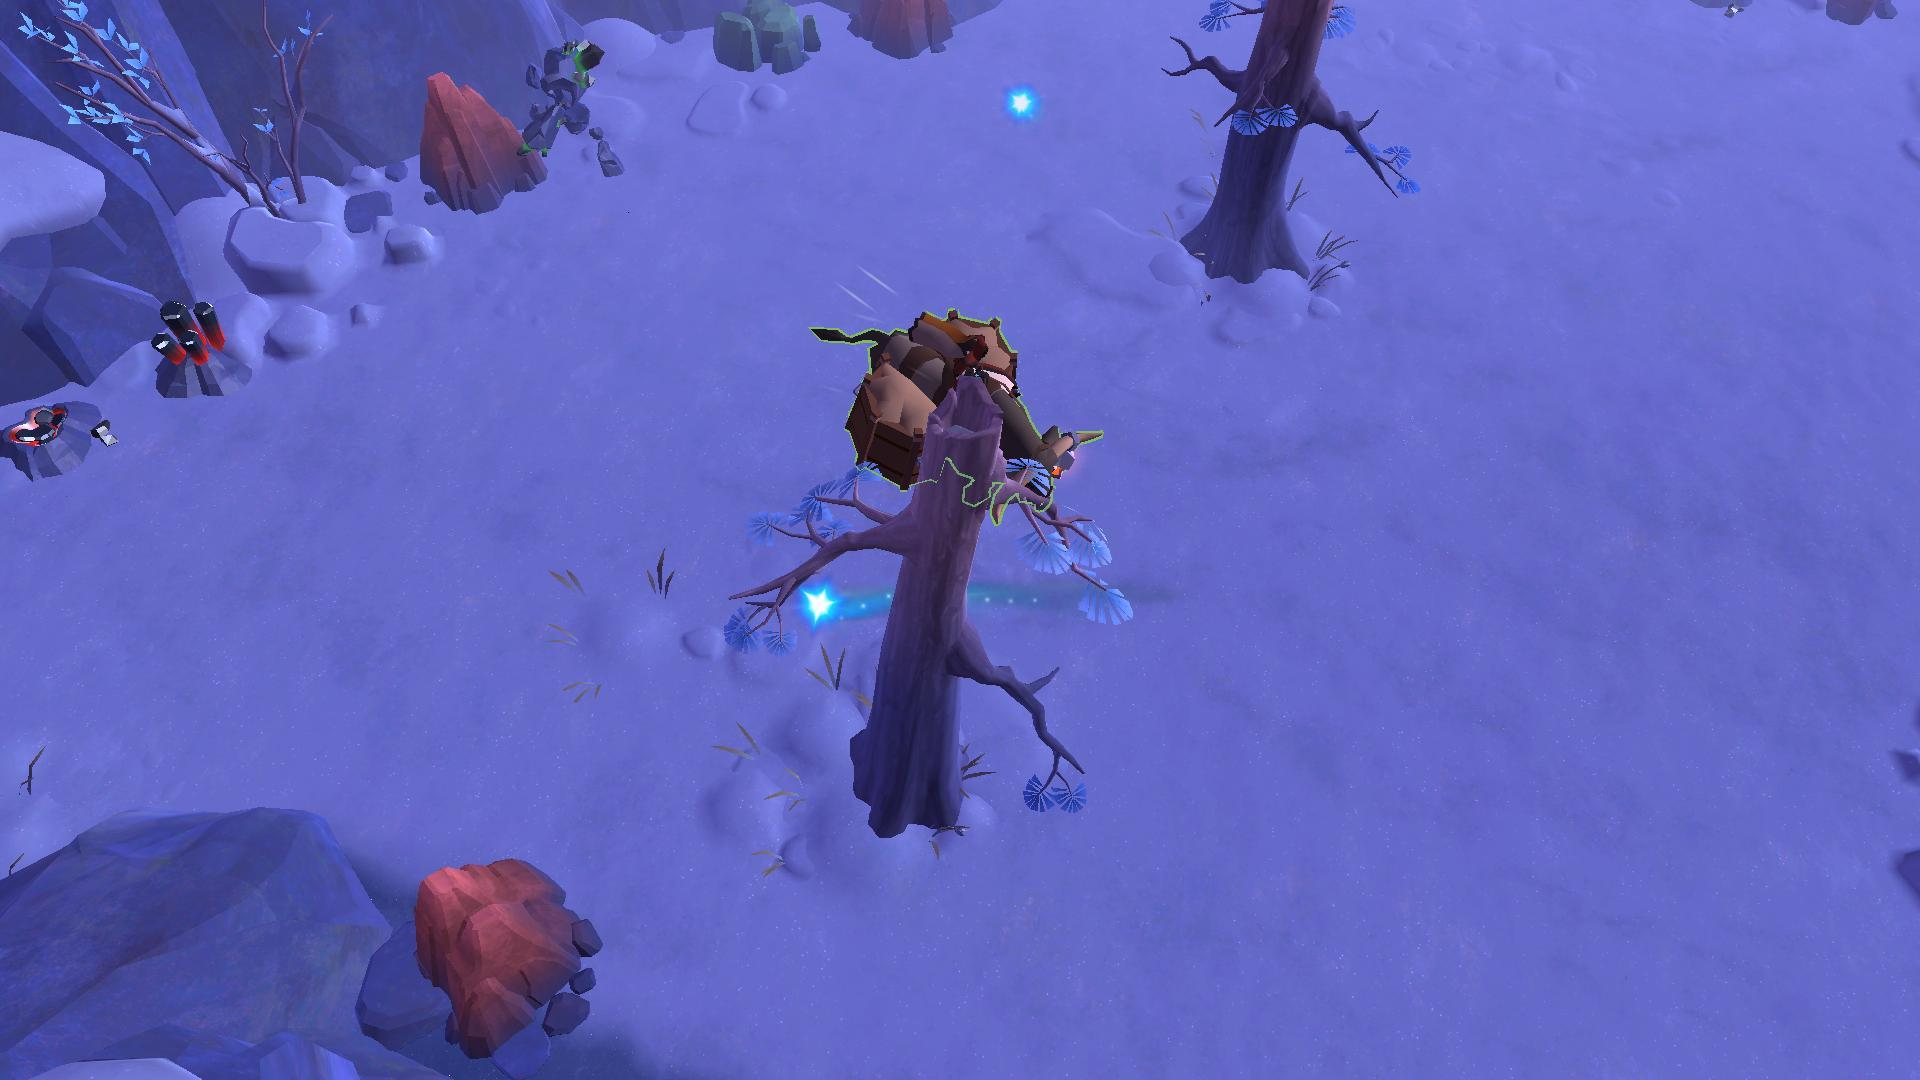ore_t5: (153, 297, 225, 368)
rock_t3: (700, 0, 819, 86)
rock_t5: (401, 845, 603, 1054), (406, 73, 556, 212), (845, 0, 961, 67)
